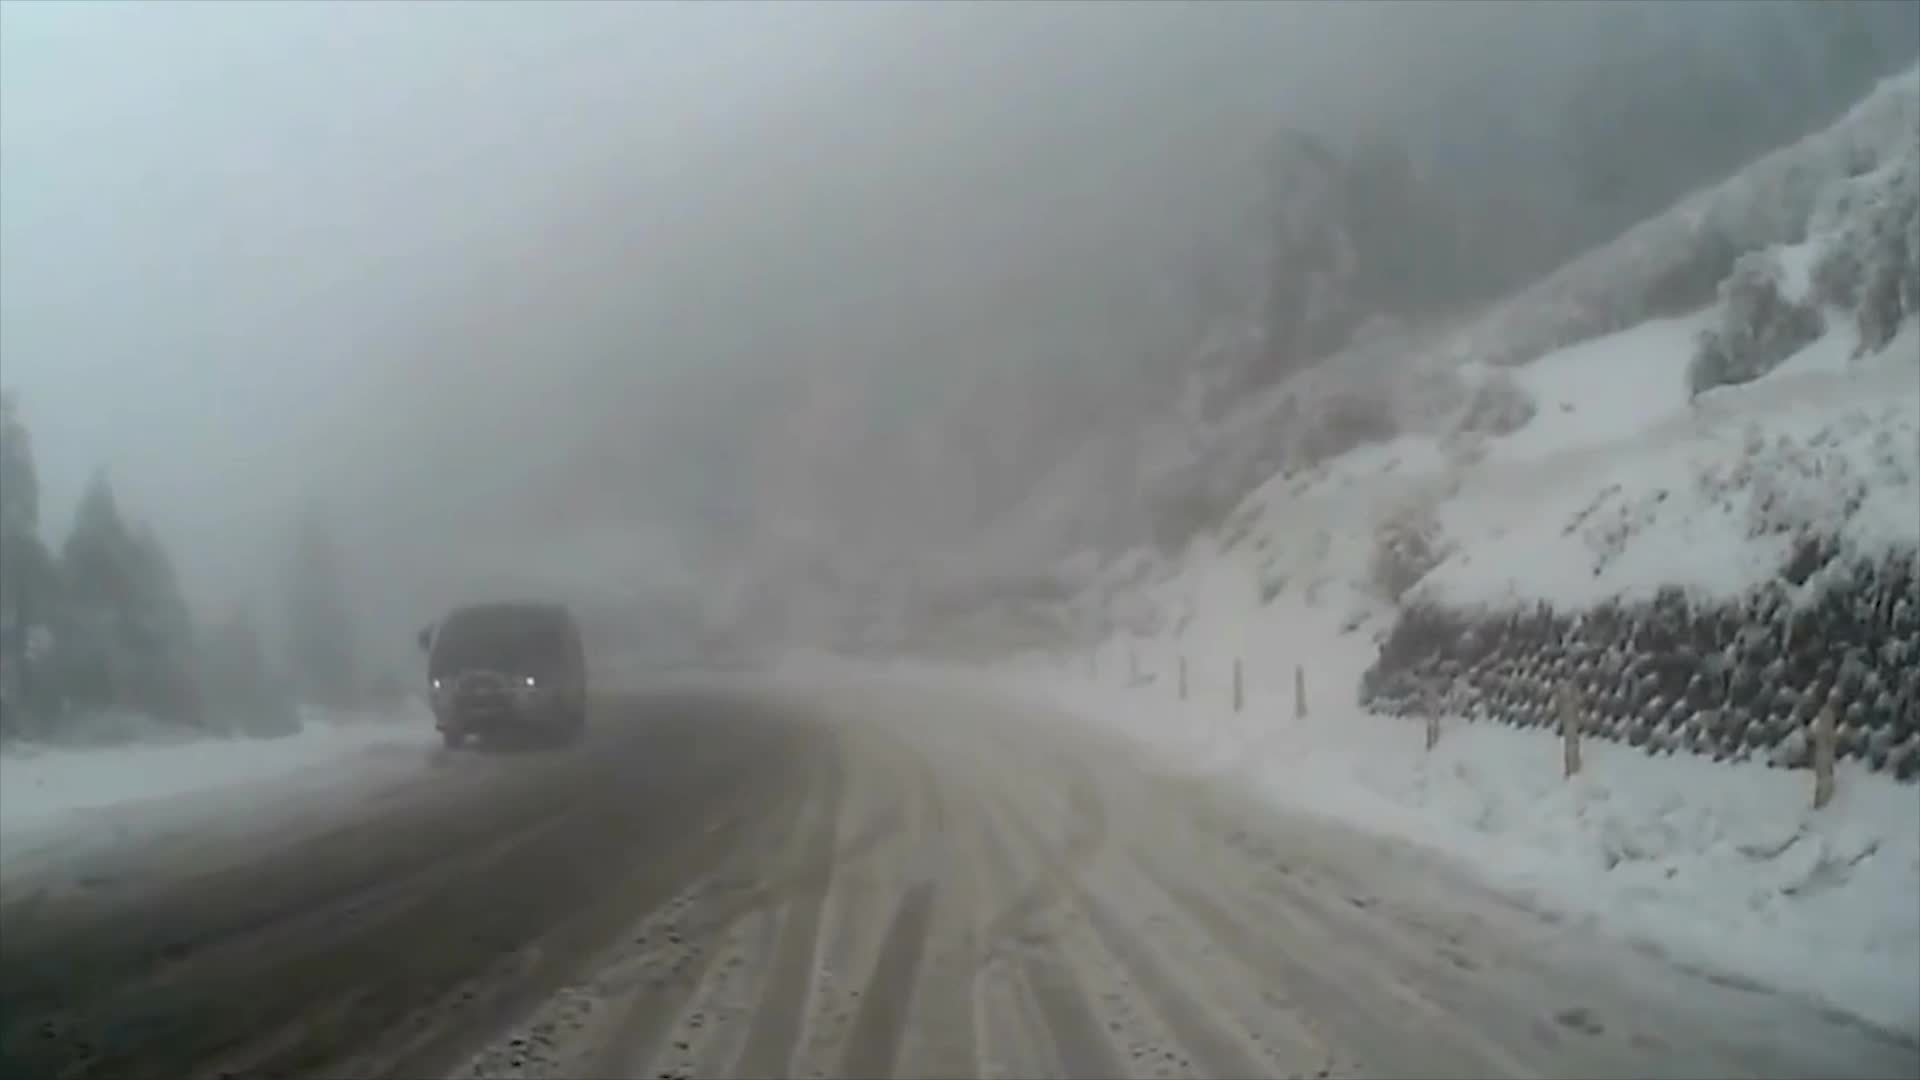vehicle: (414, 603, 587, 750)
